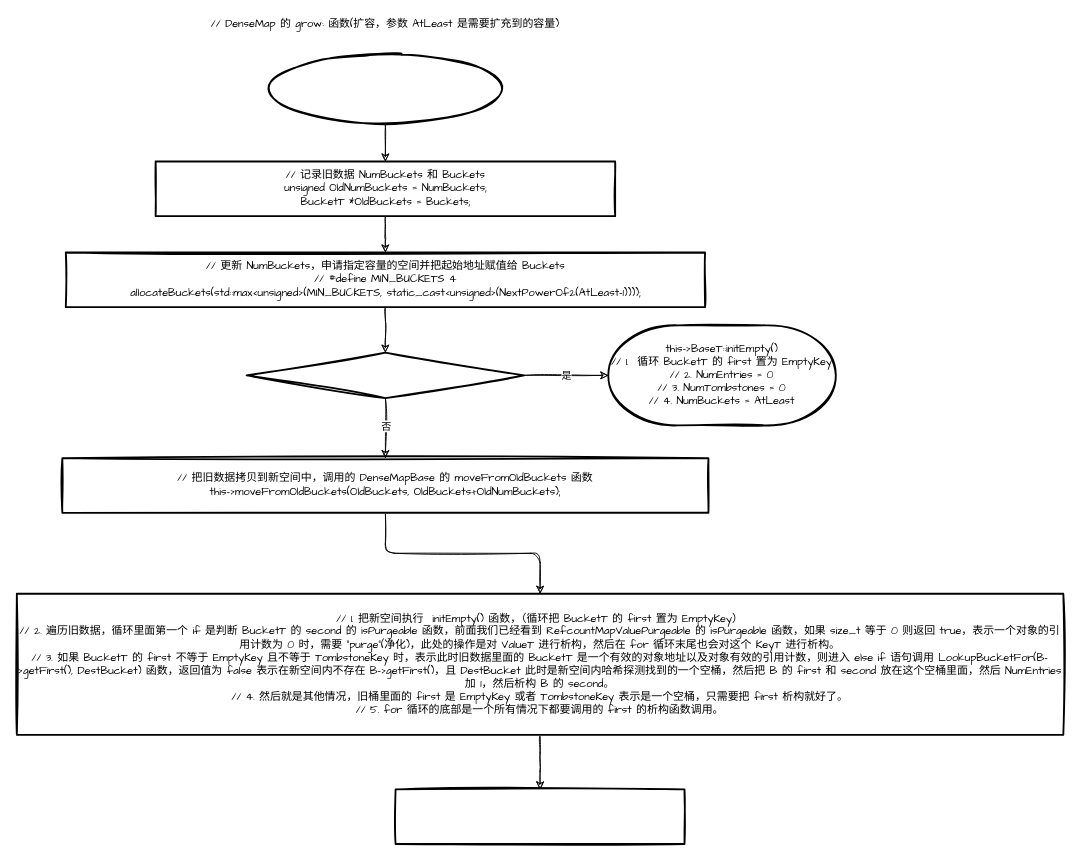
Image size: 1079x860. Some labels were removed from this diagram. Each missing label, with the centre of its shape:
!OldBuckets: (x=385, y=375)
// DenseMap 的 grow: 函数 void grow(unsigned AtLeast);: (x=385, y=88)
// 最后，把旧数据的散列表释放了 // operator delete(OldBuckets);: (x=539, y=816)
